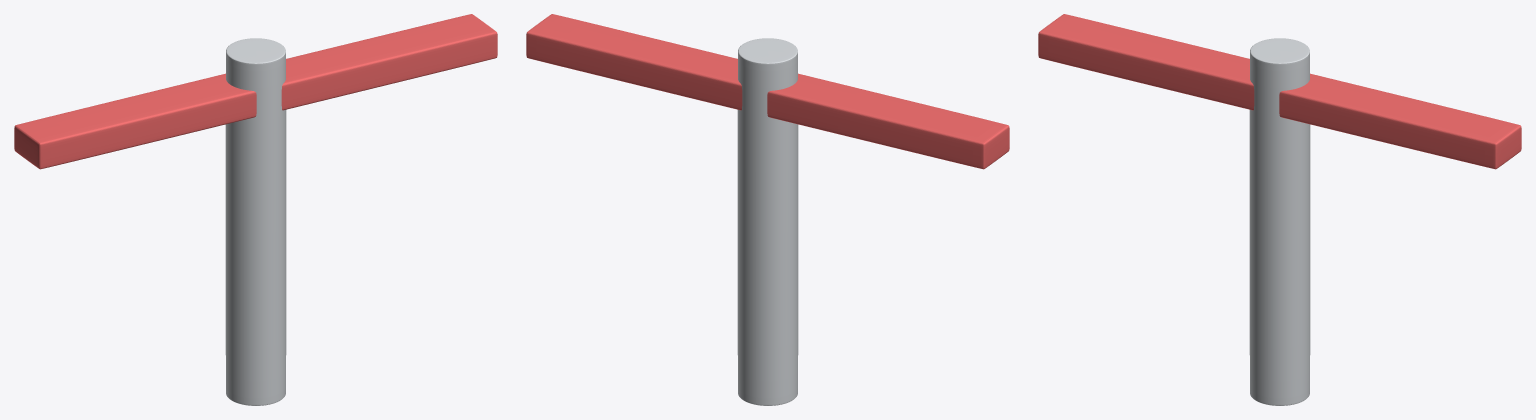
Rendered from Mega_Spinner_Hi_205921.fbx.
3 views of the same model, side by side, from view 1: azimuth 30°, elevation 25°; view 2: azimuth 150°, elevation 25°; view 3: azimuth 330°, elevation 25° (orthographic).
Visible parts, largest first — view 1: Cube, Cylinder; view 2: Cube, Cylinder; view 3: Cube, Cylinder.
Part boxes in pixels (bbox=[...]): Cube: bbox=[14, 14, 497, 169]; Cylinder: bbox=[225, 38, 286, 405]; Cube: bbox=[526, 14, 1009, 169]; Cylinder: bbox=[737, 38, 798, 405]; Cube: bbox=[1038, 14, 1521, 169]; Cylinder: bbox=[1249, 38, 1310, 405].
Bounding box in the file's own units: 3.5 × 2.5 × 0.3987.
